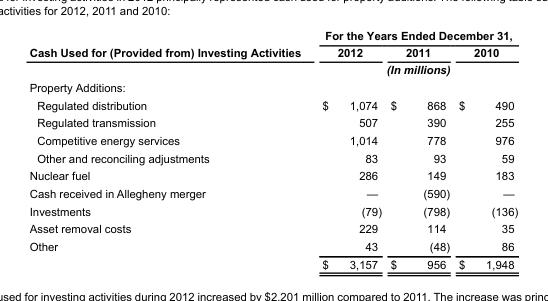table: (28, 29, 517, 270)
table column: (28, 29, 310, 270), (310, 29, 385, 270), (385, 29, 453, 270), (453, 29, 517, 270)
table column header: (28, 29, 517, 78)
table projected row header: (28, 78, 517, 95)
table row: (28, 60, 517, 78), (28, 95, 517, 113), (28, 113, 517, 131), (28, 131, 517, 149), (28, 166, 517, 184), (28, 184, 517, 202), (28, 219, 517, 237), (28, 237, 517, 255), (28, 43, 517, 60), (28, 78, 517, 95), (28, 149, 517, 166), (28, 202, 517, 219), (28, 255, 517, 270), (28, 29, 517, 43)
table spanning cell: (28, 29, 310, 78), (310, 60, 517, 78), (310, 29, 517, 43)
